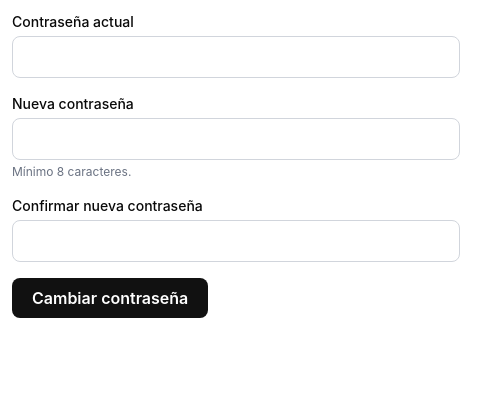
Scenario: ChangePasswordForm › si no se pudieron cerrar las otras sesiones, lo dice y no las da por cerradas
The width and height of the screenshot is (477, 417).
In the password field labelled "Contraseña actual": {"x": 236, "y": 57} [12, 36, 460, 78], type "contraseña-vieja"
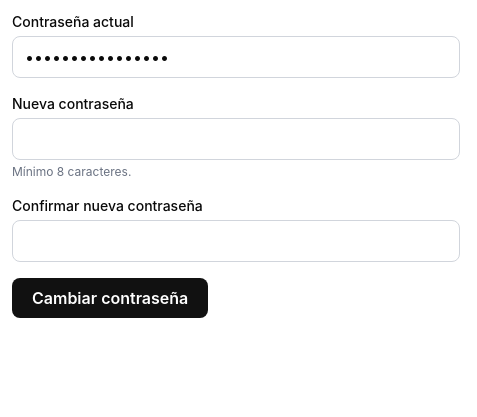
In the password field labelled "Nueva contraseña": {"x": 236, "y": 139} [12, 118, 460, 160], type "contraseña-nueva-123"
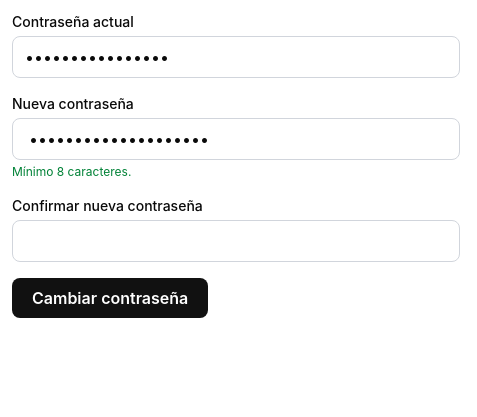
In the password field labelled "Confirmar nueva contraseña": {"x": 236, "y": 241} [12, 220, 460, 262], type "contraseña-nueva-123"
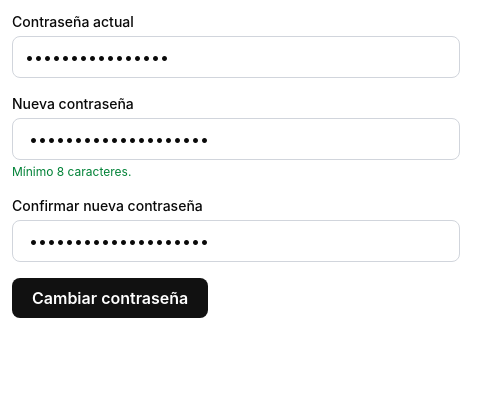
Submit the form
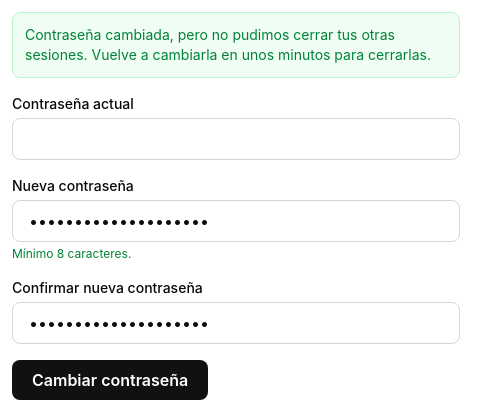
Expected: the text "Contraseña cambiada, pero no pudimos cerrar tus otras sesiones. Vuelve a cambiarla en unos minutos para cerrarlas." is shown, [25, 26, 431, 63]
